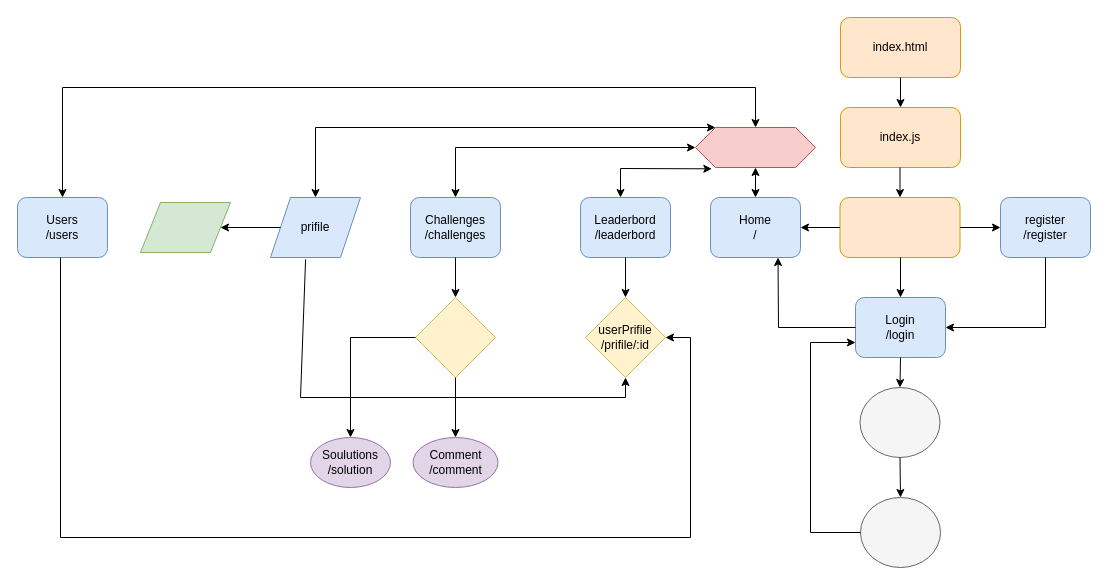
The diagram is 1108 pixels wide and 585 high, and some of its shapes have lost their labels. Each missing label, with the centre of its shape:
"App.js" belongs at pixel 899 227.
"challenge /challenge /:id" belongs at pixel 455 337.
"ChangPass /chang" belongs at pixel 900 532.
"ForgitPass /forgit" belongs at pixel 899 422.
"Header" belongs at pixel 755 147.
"logout" belongs at pixel 185 227.
